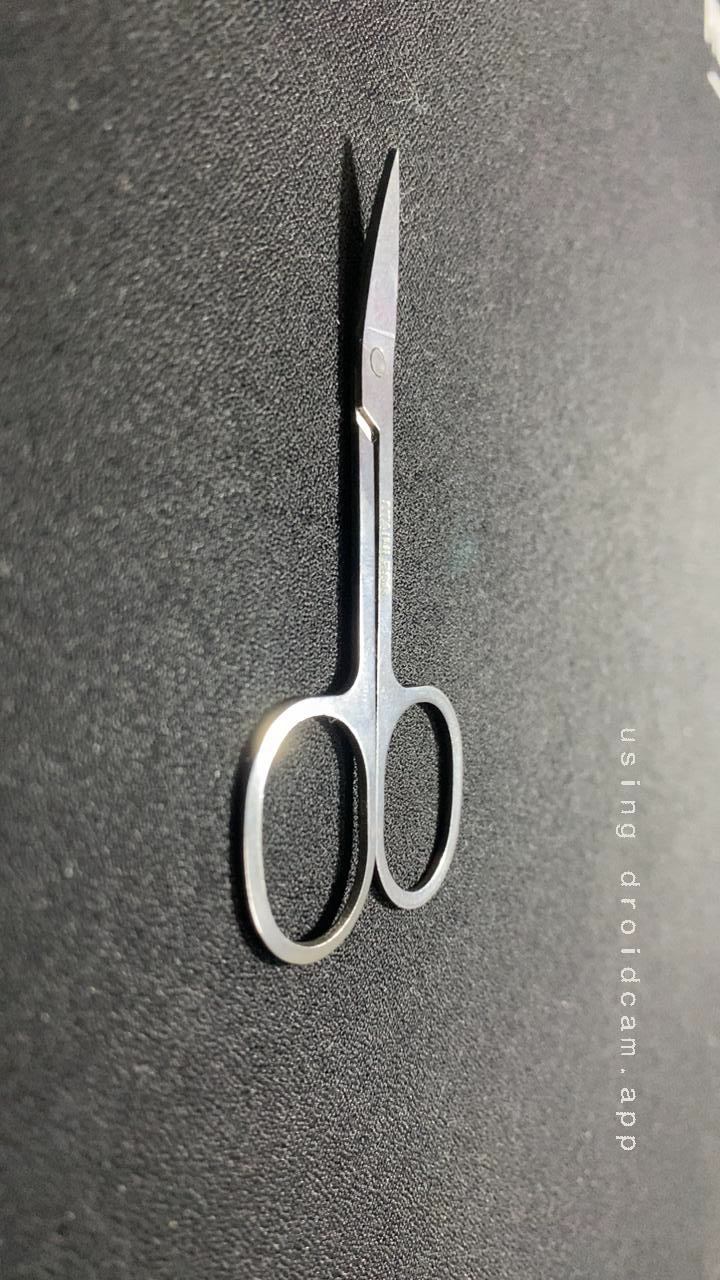scissor: (160, 569, 508, 984)
